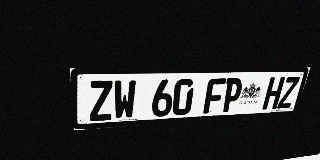0: (172, 79, 195, 116)
6: (151, 79, 175, 117)
F: (203, 78, 226, 114)
H: (262, 77, 285, 110)
P: (221, 78, 244, 112)
W: (113, 80, 136, 120)
Z: (88, 80, 113, 121), (277, 77, 300, 109)
